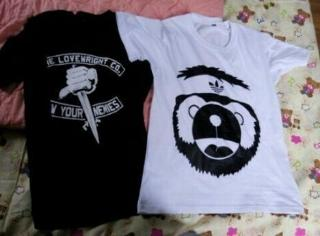short sleeve top: (116, 11, 308, 214), (0, 10, 153, 229)
